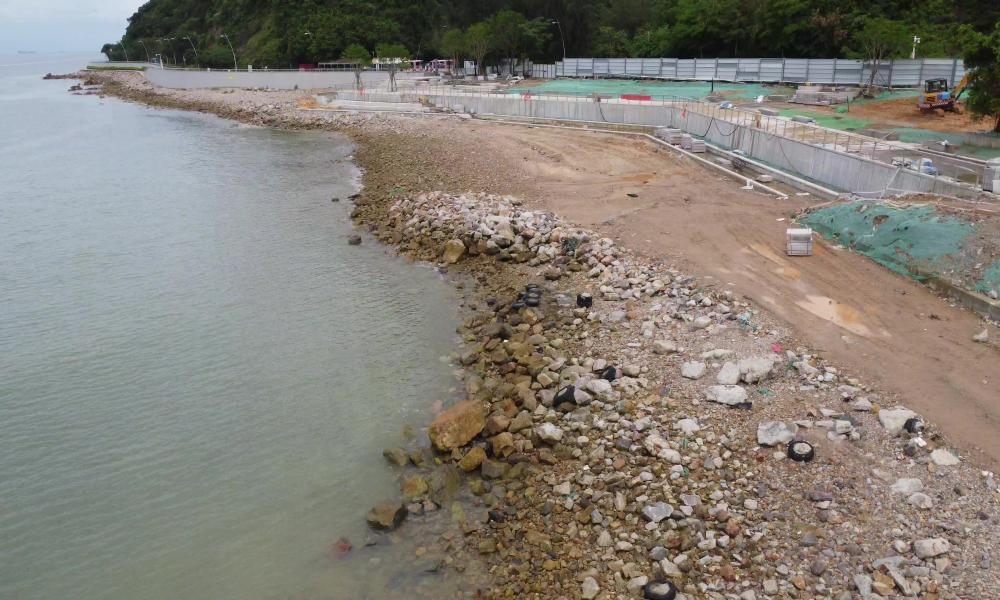tire: (551, 381, 580, 410), (789, 438, 815, 466), (573, 291, 594, 308), (600, 366, 618, 385), (510, 296, 521, 315), (523, 294, 540, 306), (525, 281, 549, 289), (529, 288, 544, 296)
